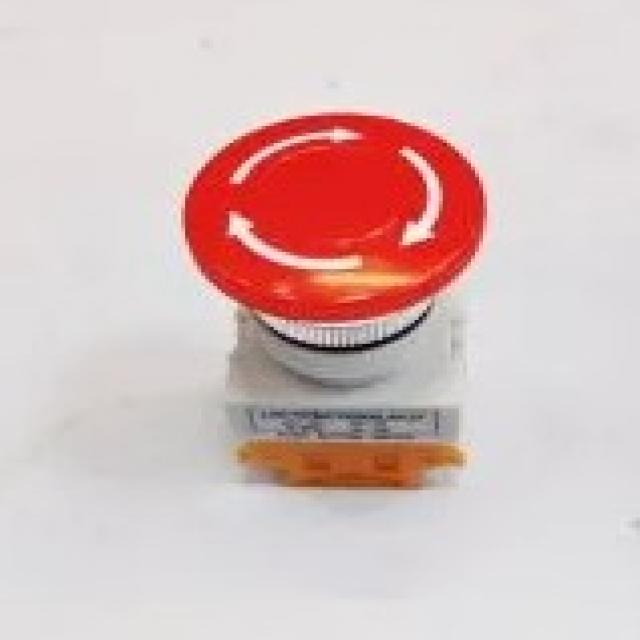safety switch: (176, 112, 485, 350)
